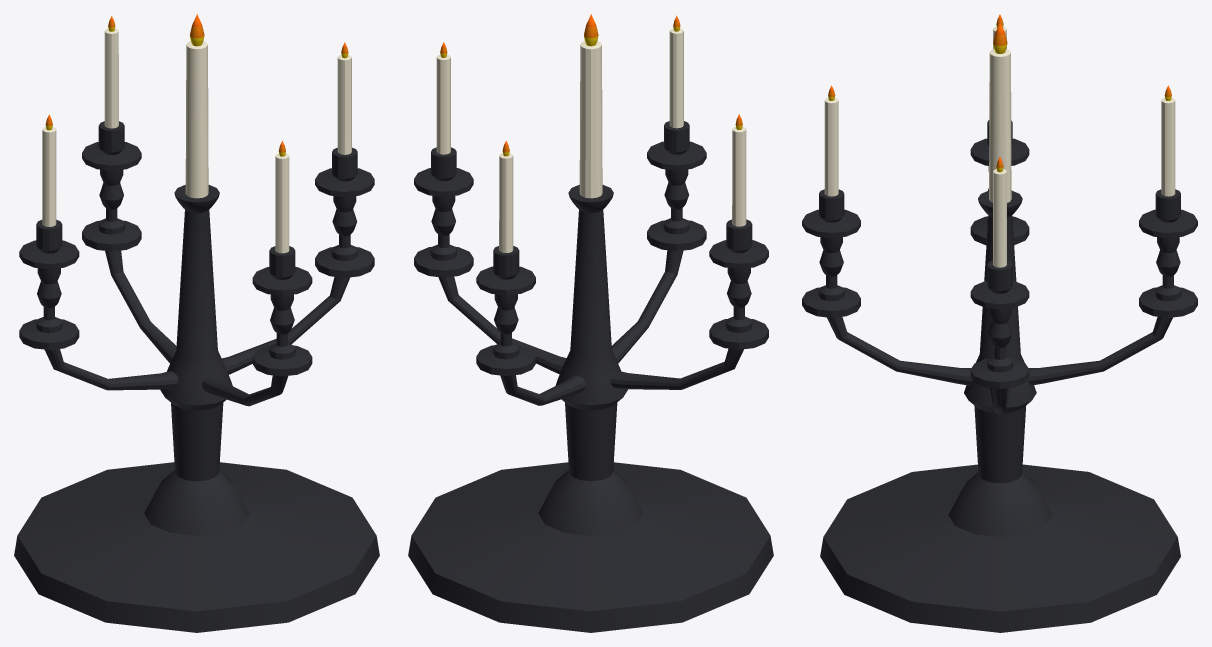
The model's file is Chandelier.fbx.
3 views of the same model, side by side, from view 1: azimuth 30°, elevation 25°; view 2: azimuth 150°, elevation 25°; view 3: azimuth 270°, elevation 25° (orthographic).
Visible parts, largest first — view 1: Chandelier; view 2: Chandelier; view 3: Chandelier.
Boxes of the visible parts, x1=… form: Chandelier: x1=14, y1=14, x2=379, y2=632; Chandelier: x1=408, y1=14, x2=773, y2=632; Chandelier: x1=802, y1=14, x2=1197, y2=632.
Size of the model in its own units: 85.06 by 127 by 85.06.
